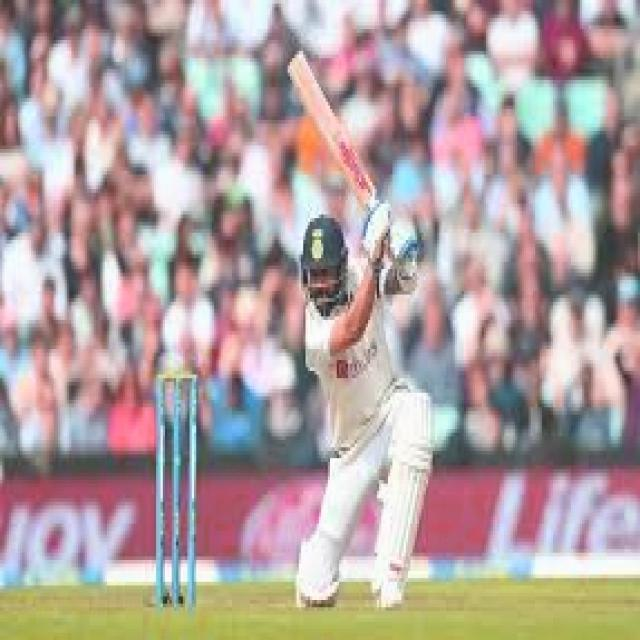bat: (280, 48, 378, 201)
toe: (277, 46, 319, 75)
